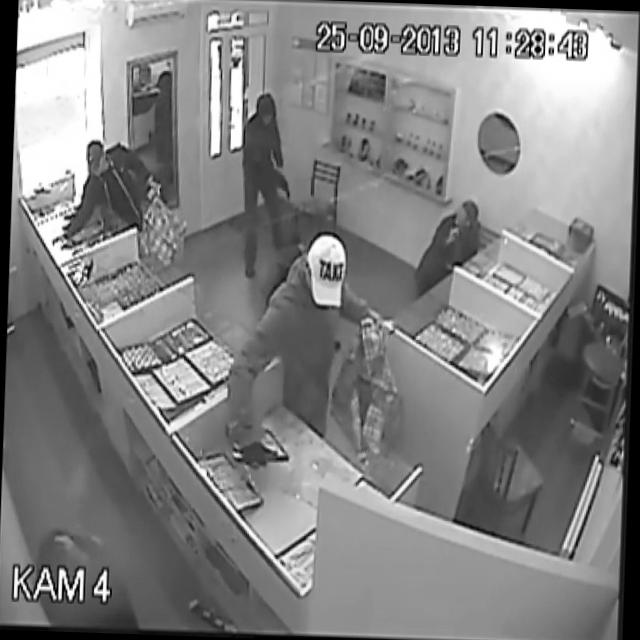gun: (272, 159, 292, 201)
person: (257, 222, 362, 384), (424, 195, 476, 282), (76, 129, 131, 182)
person with a gun: (232, 95, 307, 278)
